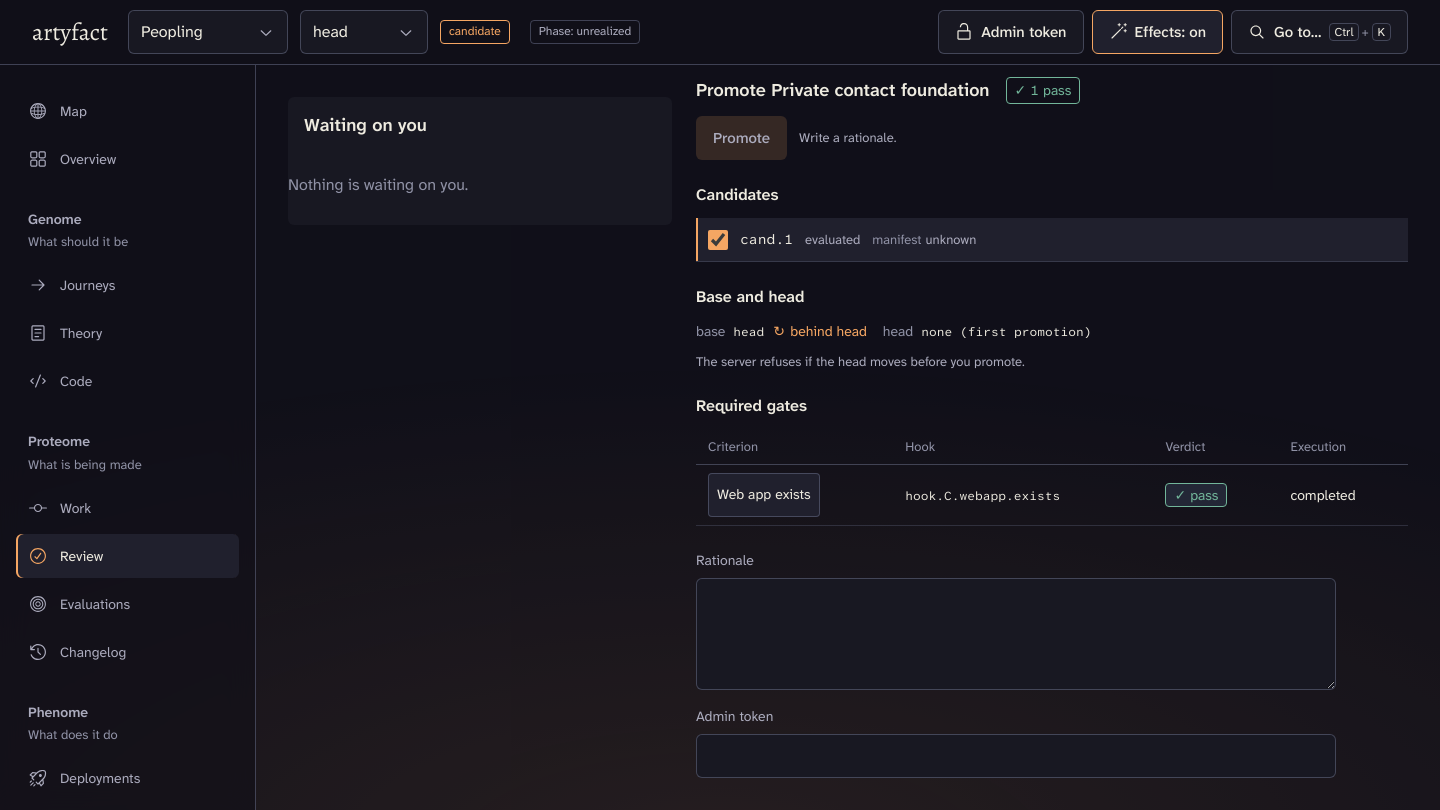
Test: PromotionPanel › shows the server's gate set and refuses to judge a candidate the server reported none for
(page scrolled)
Type "All required gates pass" into the text box labelled "Rationale" at (1016,634), box top-left (696, 578), bottom-right (1336, 690)
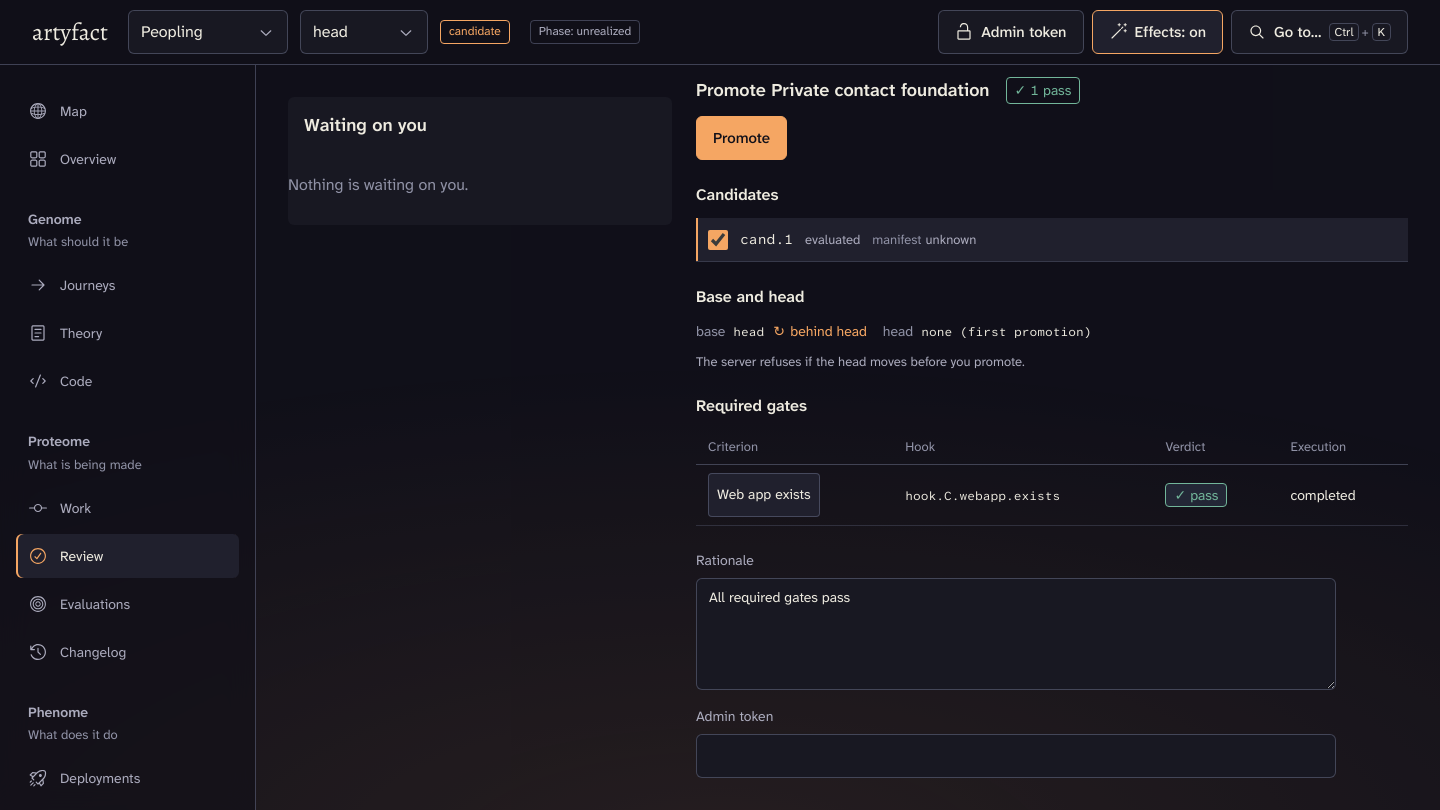
Expected: the number of rows is 2, top-left (696, 430), bottom-right (1408, 464); top-left (696, 464), bottom-right (1408, 525)
Now the button "Promote" is enabled, box top-left (696, 116), bottom-right (787, 160)
